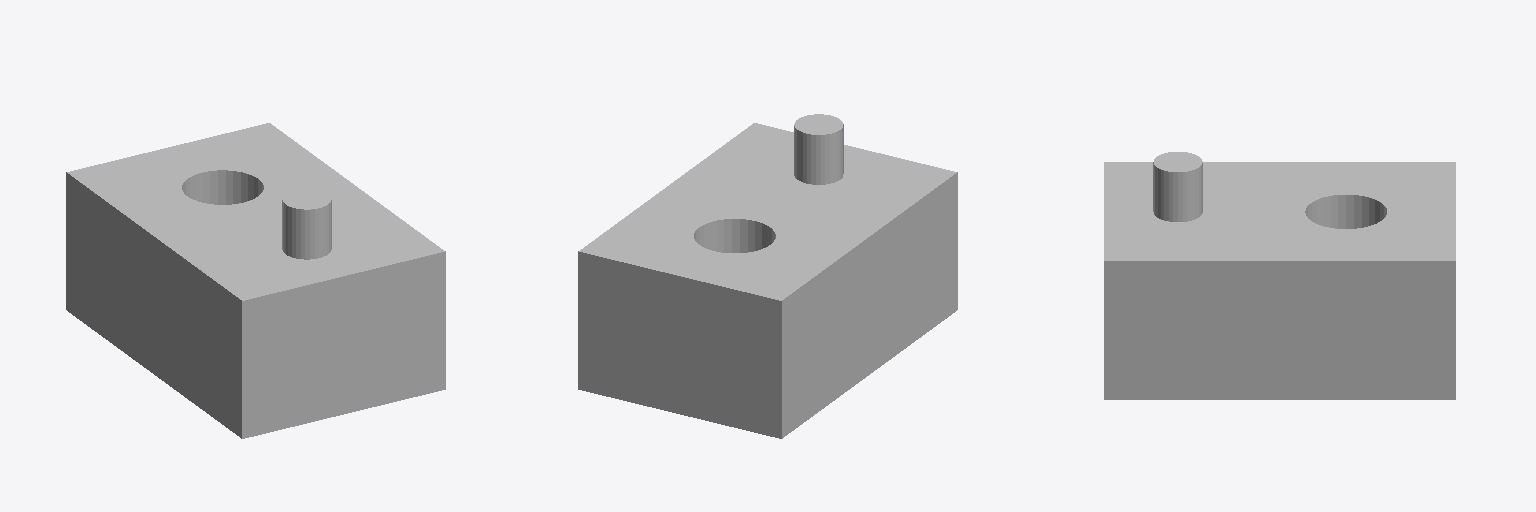
File: tracker-mount.obj
3 views of the same model, side by side, from view 1: azimuth 30°, elevation 25°; view 2: azimuth 150°, elevation 25°; view 3: azimuth 270°, elevation 25° (orthographic).
Parts seen in each view (by area): view 1: mount_Cube.002; view 2: mount_Cube.002; view 3: mount_Cube.002.
Part boxes in pixels (left/top/right/bottom): mount_Cube.002: left=66, top=123, right=445, bottom=438; mount_Cube.002: left=578, top=114, right=957, bottom=438; mount_Cube.002: left=1104, top=152, right=1455, bottom=399.
Size of the model in its own units: 0.02 by 0.0177 by 0.03.